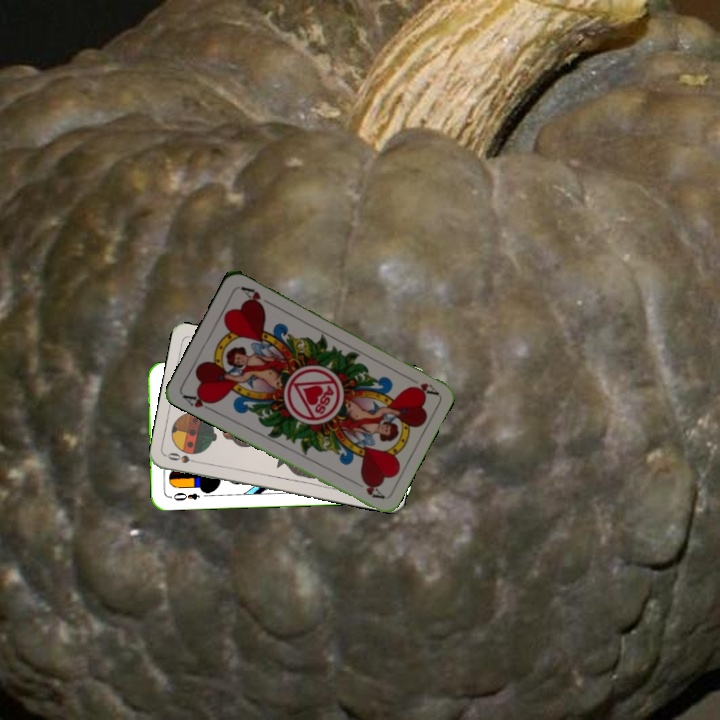EO: (169, 489, 202, 504)
HA: (403, 372, 440, 398), (179, 390, 217, 414)
SO: (163, 448, 204, 466)
